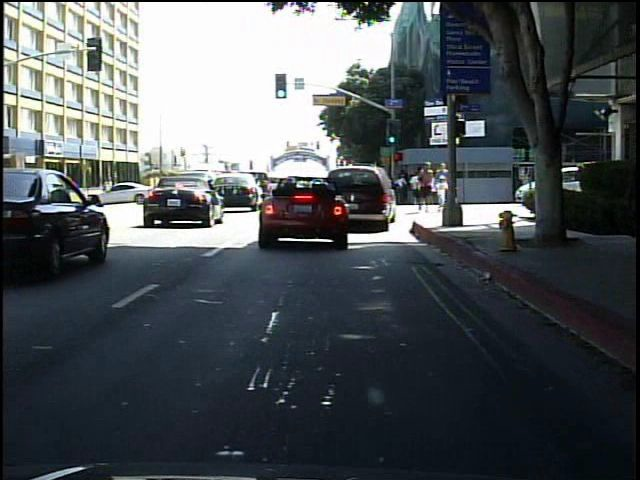person: (416, 159, 437, 215), (100, 177, 119, 204), (431, 175, 446, 209)
